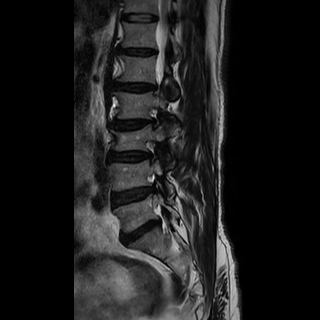RFS2: (141, 135, 165, 167)
RFS3: (140, 102, 167, 136)
